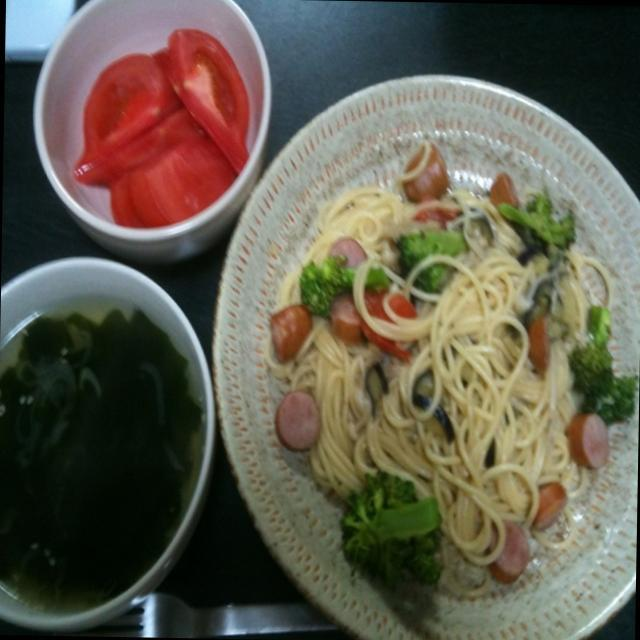Pasta: (255, 151, 610, 576)
